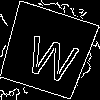W: (23, 25, 83, 85)
